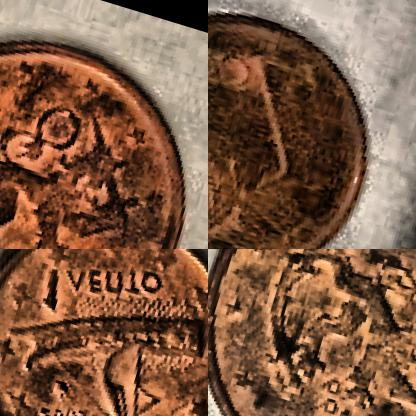coin: (0, 2, 207, 248), (208, 0, 403, 248), (0, 249, 207, 415), (208, 249, 415, 415)
